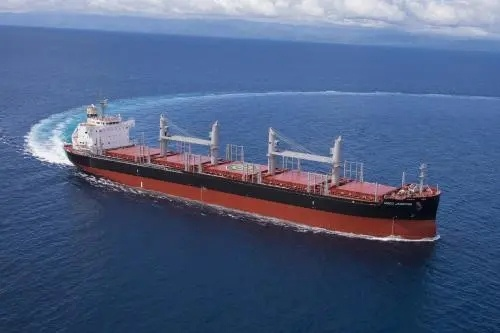Cargoship: (63, 94, 441, 242)
